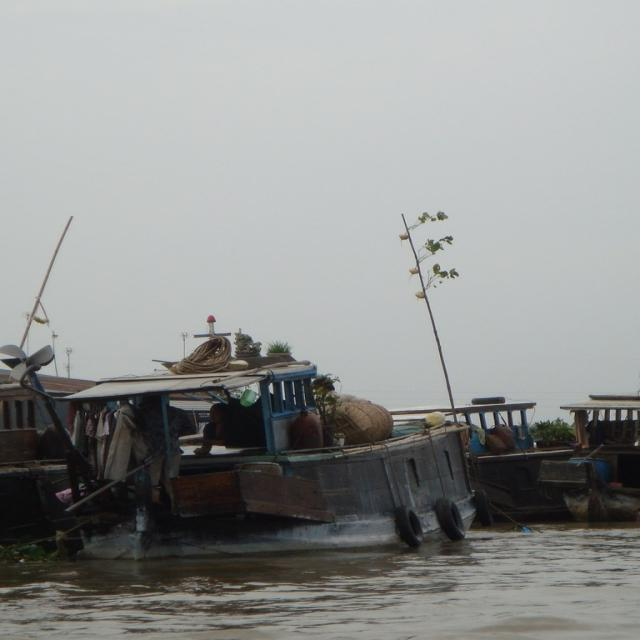Hyacinth: (1, 534, 61, 571)
boat: (70, 348, 473, 572)
